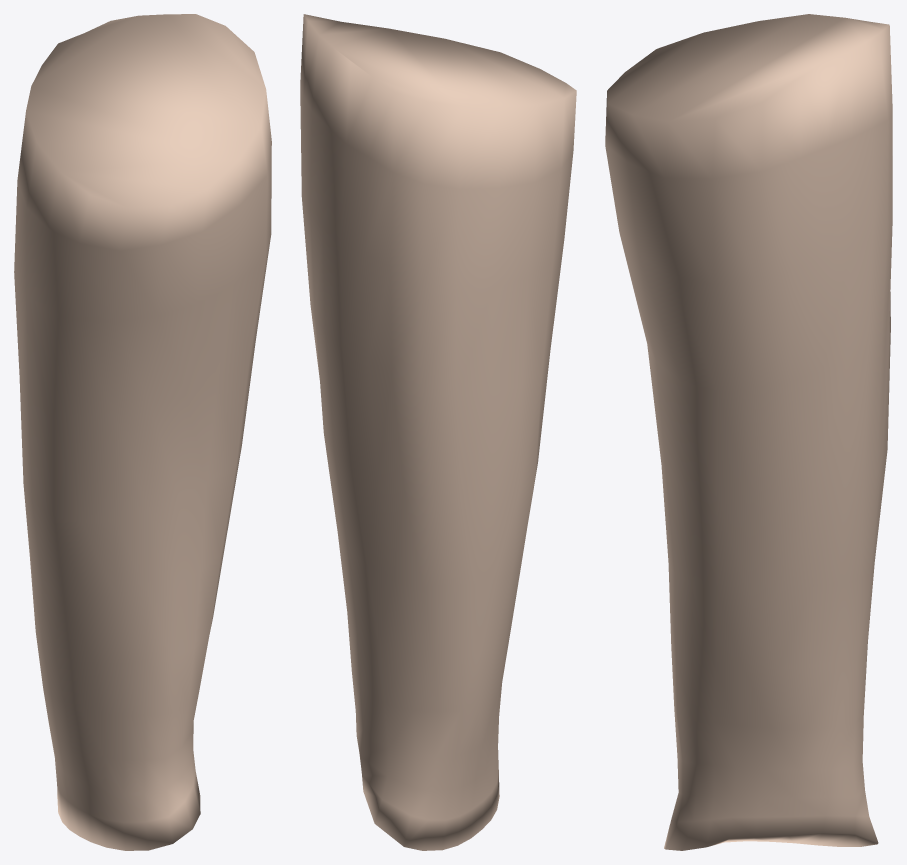
File: left_lower_arm.dae
The picture shows the model from 3 angles, left to right: view 1: azimuth 30°, elevation 25°; view 2: azimuth 150°, elevation 25°; view 3: azimuth 270°, elevation 25°; orthographic projection. The views are drawn at different scales.
Parts seen in each view (by area): view 1: left-lower-arm; view 2: left-lower-arm; view 3: left-lower-arm.
Boxes of the visible parts, x1,y1,x2,y2 form: left-lower-arm: [14, 14, 271, 850]; left-lower-arm: [300, 14, 576, 850]; left-lower-arm: [605, 14, 892, 850].
Size of the model in its own units: 0.07 by 0.0676 by 0.2233.
